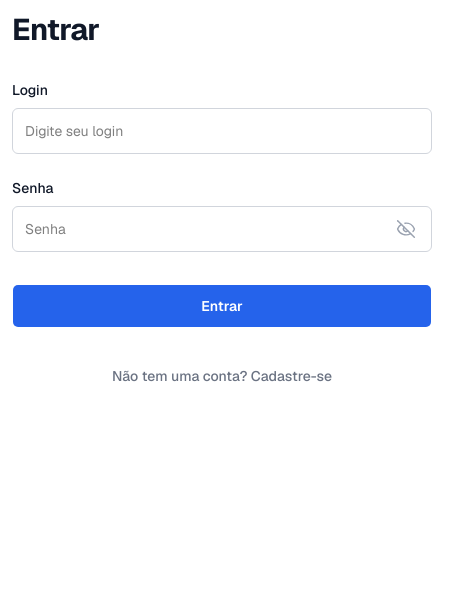
Test case: FormularioAutenticacao · cadastrar › bloqueio de envio duplicado › deve mostrar estado de carregamento durante cadastro pendente
Step 1. Click the button "Não tem uma conta? Cadastre-se" → (222, 376), box [12,360,432,392]
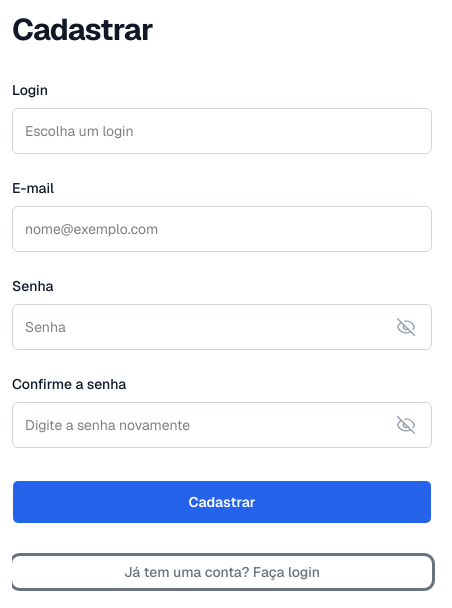
Step 2. Type "meulogin" into the field labelled "Login" → (222, 131), box [12,108,432,154]
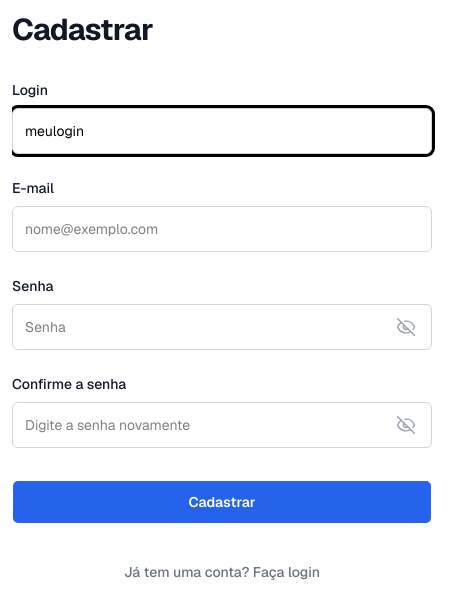
Step 3. Type "novo@test.com" into the field labelled "E-mail" → (222, 229), box [12,206,432,252]
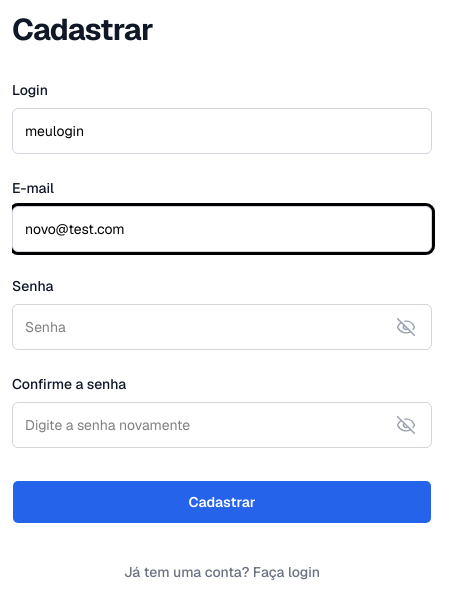
Step 4. Type "123456" into the password field labelled "Senha" → (222, 327), box [12,304,432,350]
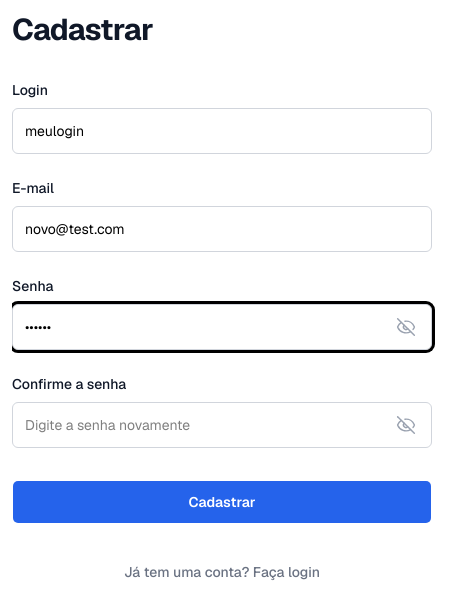
Step 5. Type "123456" into the password field labelled "Confirme a senha" → (222, 425), box [12,402,432,448]
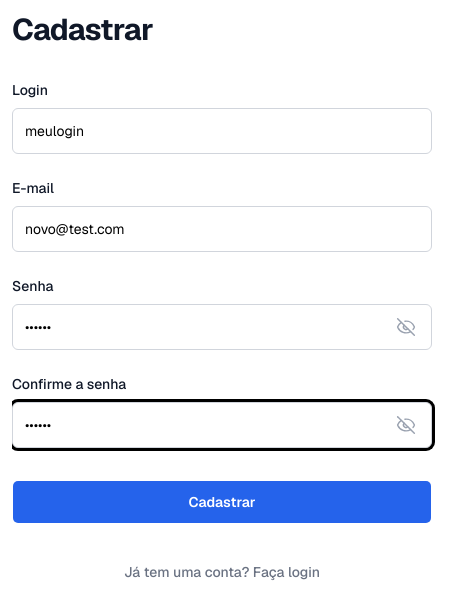
Step 6. Click the button "Cadastrar" → (222, 502), box [12,480,432,524]
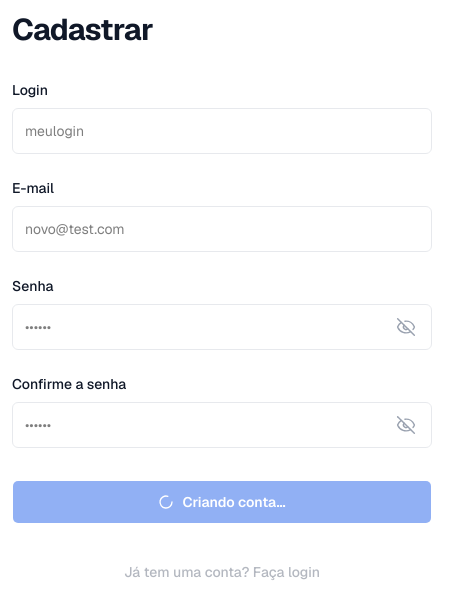
Result: the button "Criando conta…" is disabled at [12,480,432,524]
